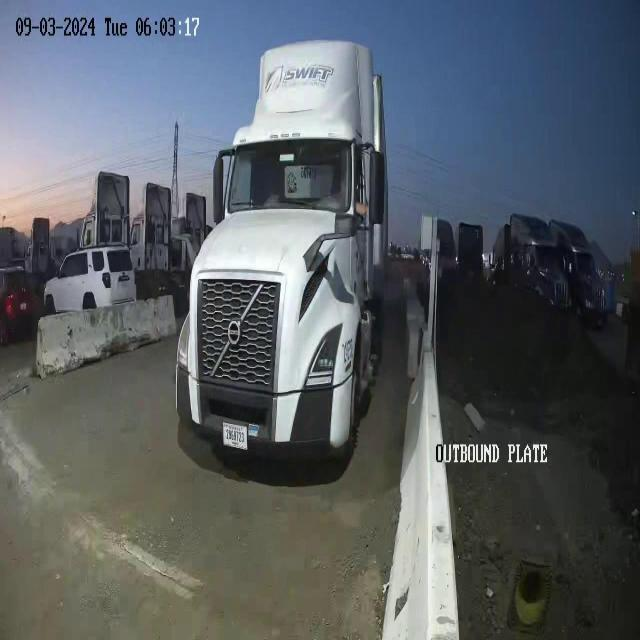TRUCK_OUT: (175, 39, 389, 468)
